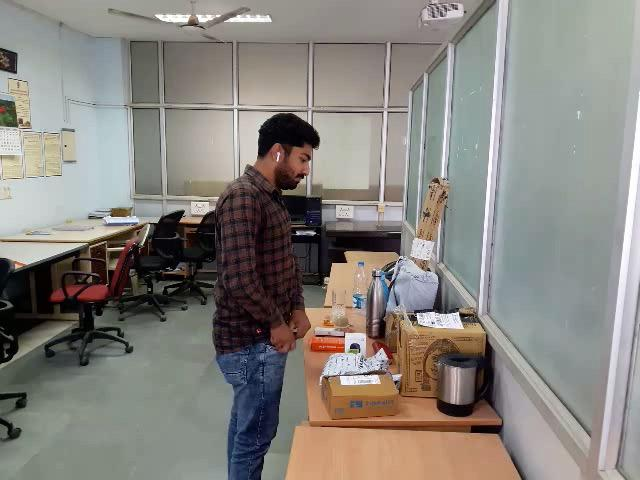Normal: (1, 2, 498, 480)
shoplifting: (170, 271, 377, 438)
